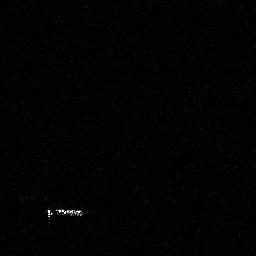ship: (46, 206, 88, 224)
